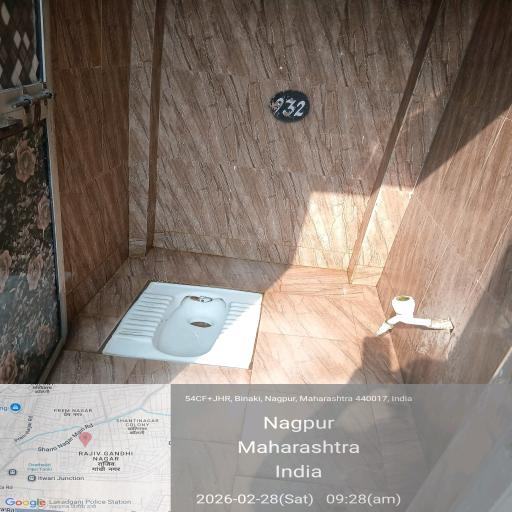clean_floor: (28, 257, 493, 502), (20, 21, 469, 255)
clean_indian: (96, 272, 274, 376)
